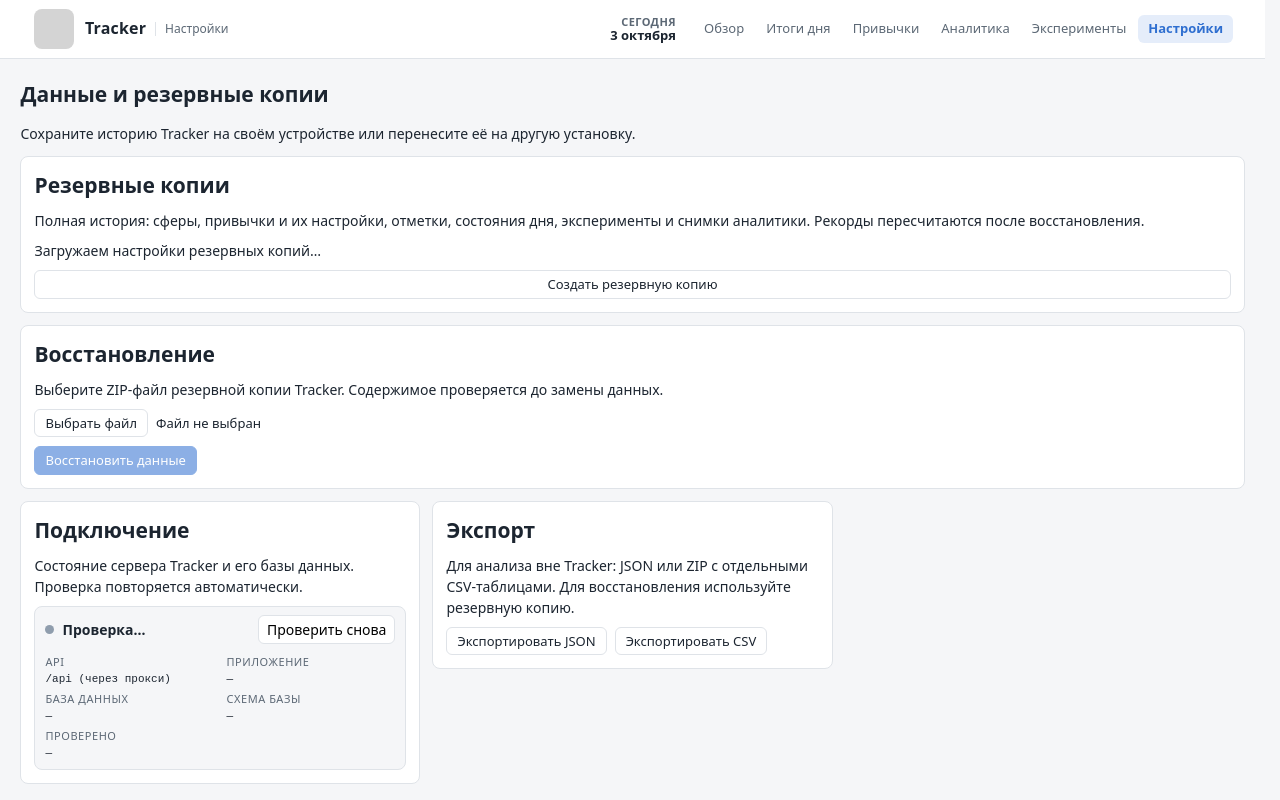
App shell › reports an unreachable backend with a hint
This screenshot has width=1280, height=800.
Click the link "Настройки": (1186,29) x1=1138 y1=15 x2=1233 y2=43
(page scrolled)
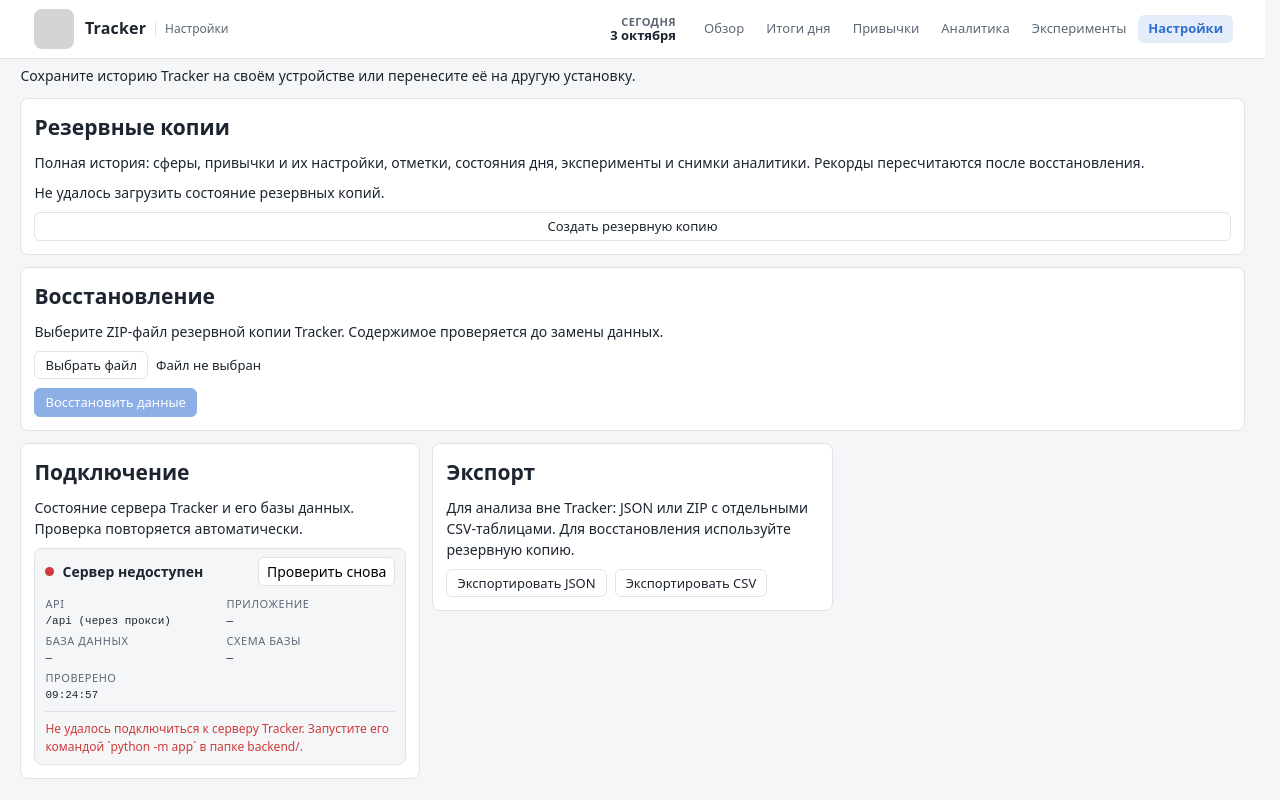
Result: the text "Сервер недоступен" is shown at x1=62 y1=561 x2=203 y2=582
Result: the 2nd message shows "python -m app" at x1=46 y1=720 x2=389 y2=755
